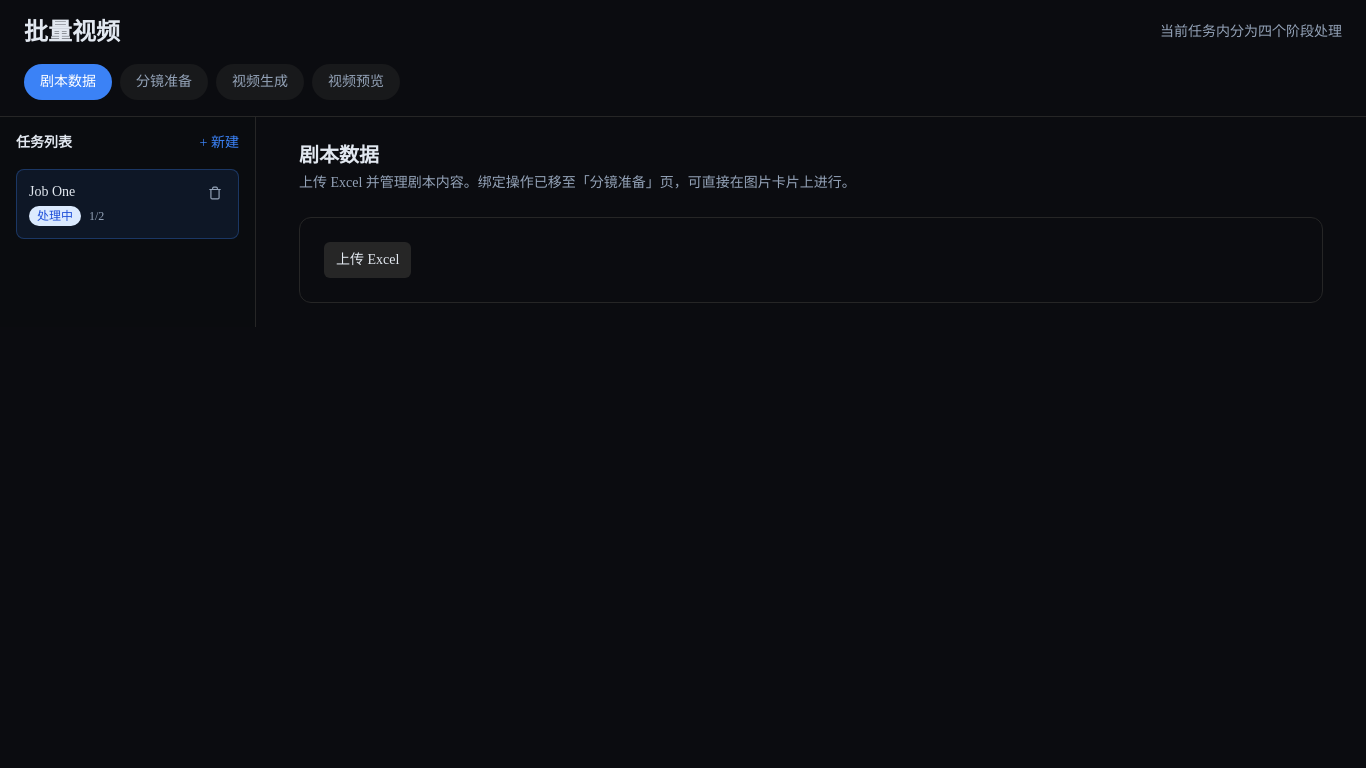
Scenario: BatchVideoPage video preview cards › displays queue position for queued_for_slot status
Click the button "视频预览" at (356, 82), box [312,64,400,100]
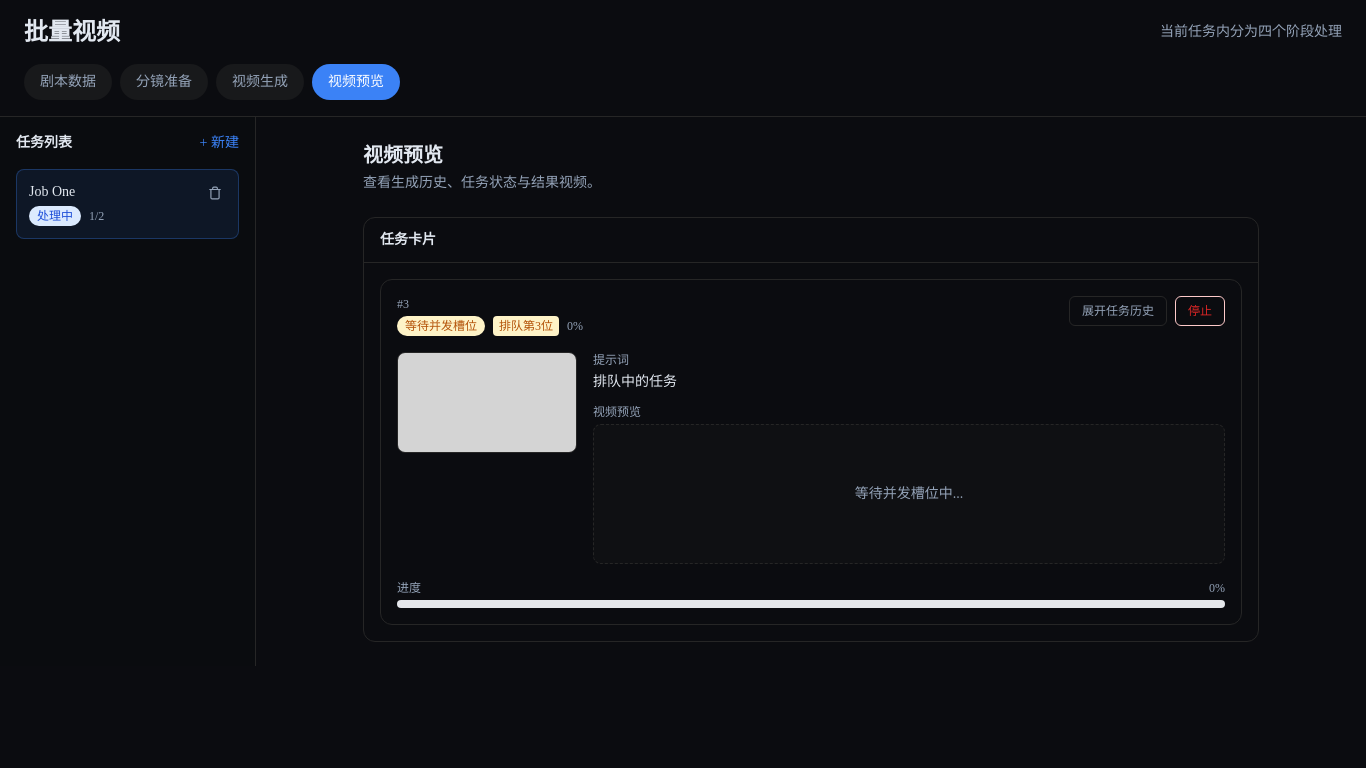
Expected: the text "等待并发槽位" is shown, [397,316,485,336]
Expected: the text "排队第3位" is shown, [493,316,559,336]
